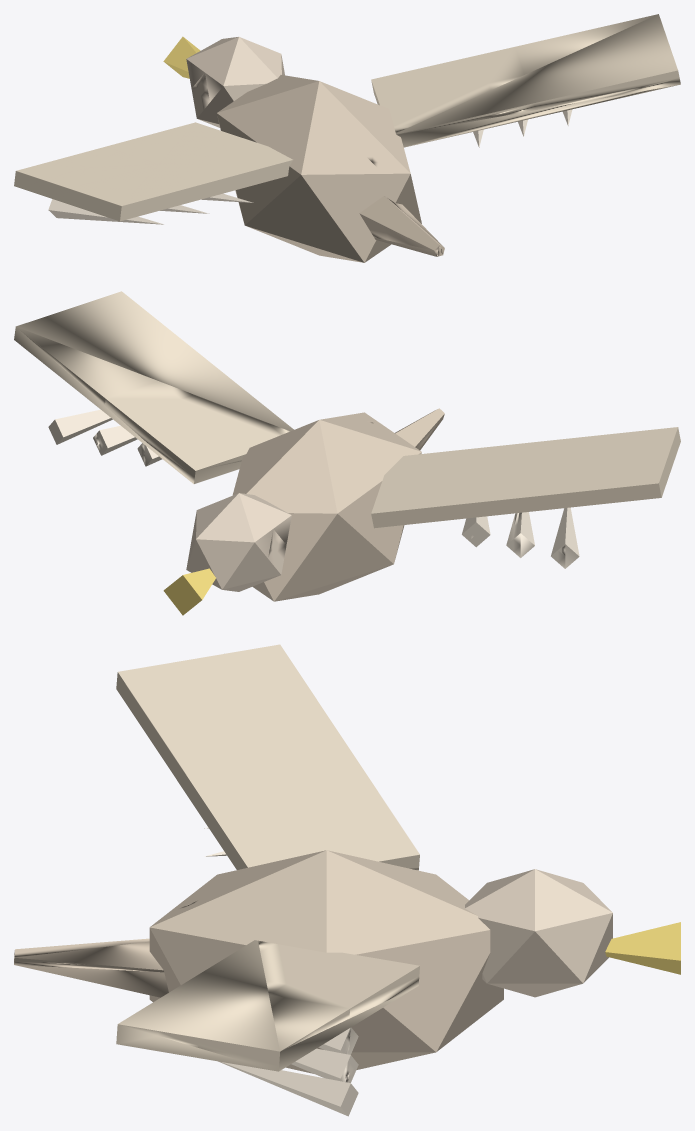
File: harpy.glb
The picture shows the model from 3 angles, top to bottom: view 1: azimuth 30°, elevation 25°; view 2: azimuth 150°, elevation 25°; view 3: azimuth 270°, elevation 25°; orthographic projection. The views are drawn at different scales.
Visible parts, largest first — view 1: HarpyBody; view 2: HarpyBody; view 3: HarpyBody.
Boxes of the visible parts, x1,y1,x2,y2 form: HarpyBody: (14,14,680,262); HarpyBody: (14,291,680,615); HarpyBody: (14,644,680,1116).
Bounding box in the file's own units: 2.33 × 0.6057 × 1.6.
